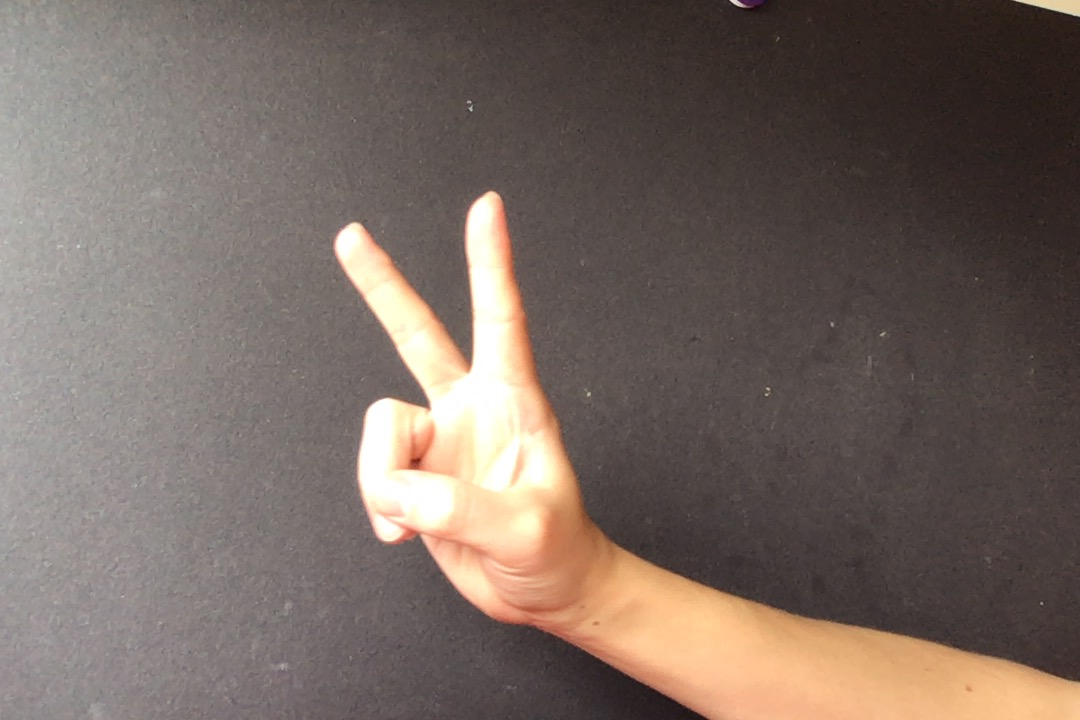peacesign: (330, 180, 590, 637)
